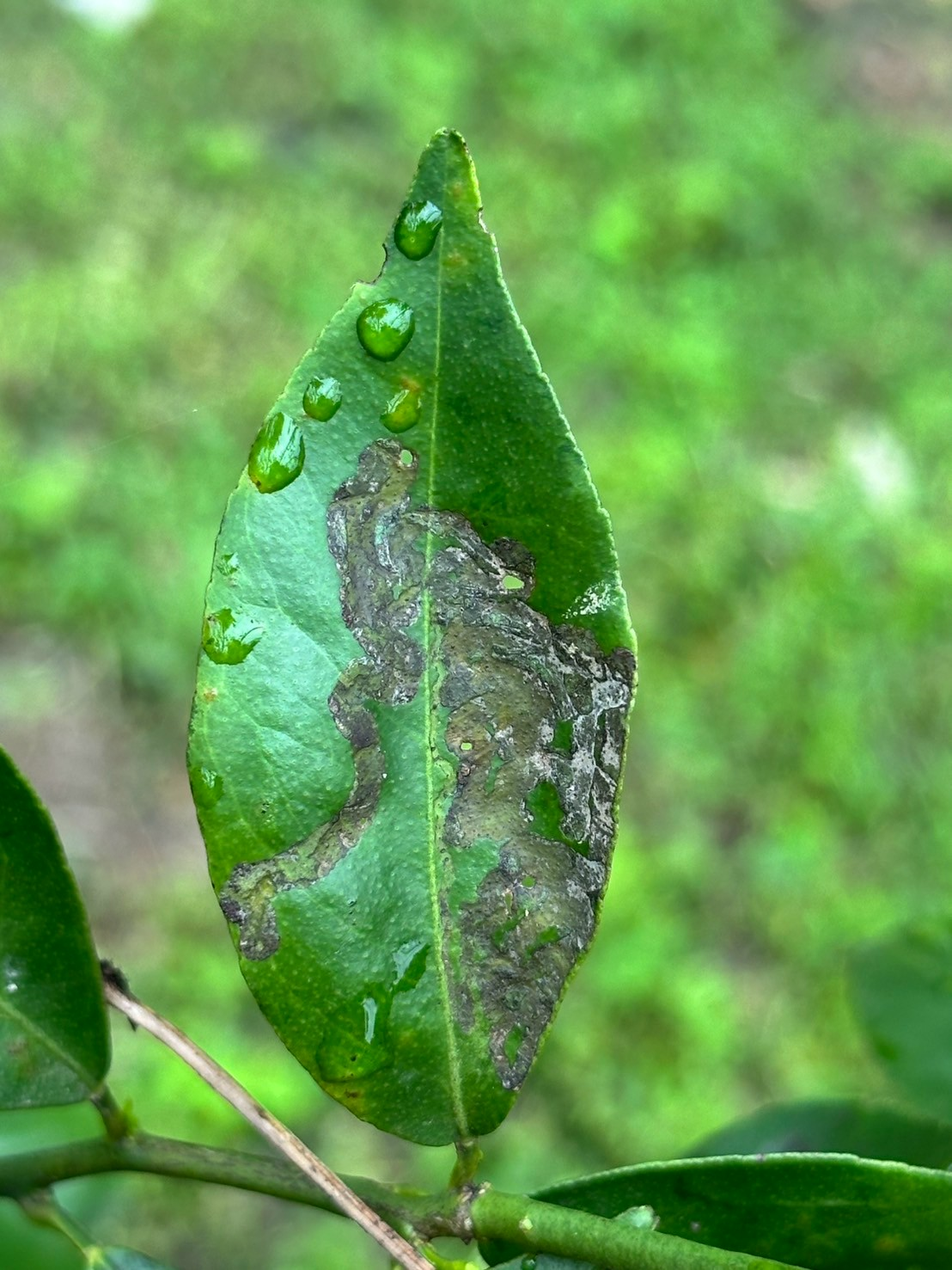Citrus_Leaf_Miner: (221, 440, 633, 1091)
